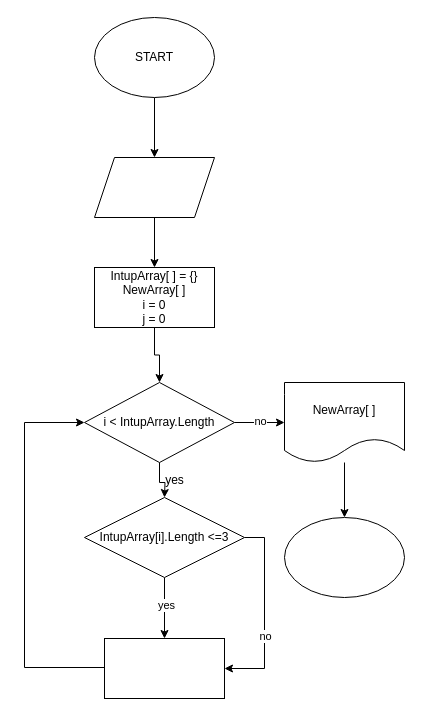
The diagram is 422 pixels wide and 716 high, and some of its shapes have lost their labels. Each missing label, with the box of its shape:
End: (284, 516, 404, 598)
i = i + 1: (104, 638, 224, 698)
IntupArray[ ] = { } NewArray[ ]: (94, 156, 214, 218)
